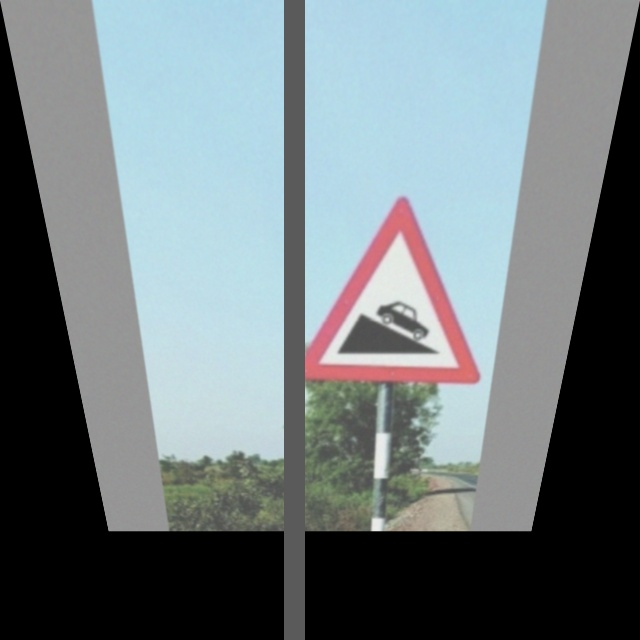Steep_Descent: (292, 198, 505, 384)
